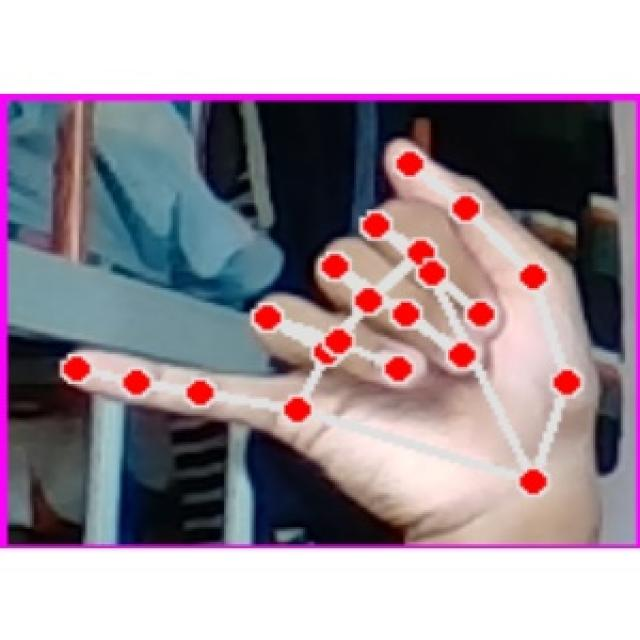J: (46, 124, 624, 518)
